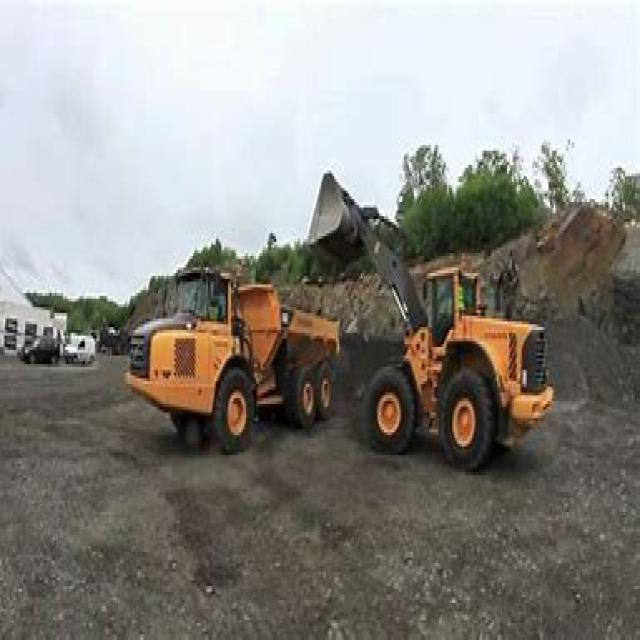buldozerpayloadergrader: (309, 165, 557, 486)
dump_truck: (123, 256, 344, 455)
